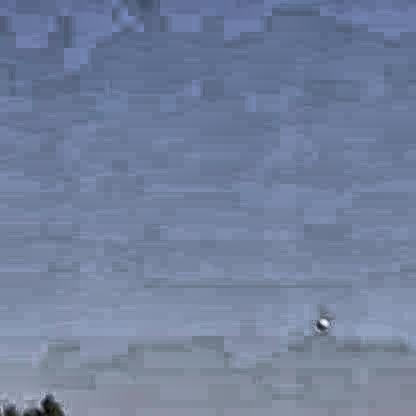golfball: (314, 315, 325, 327)
